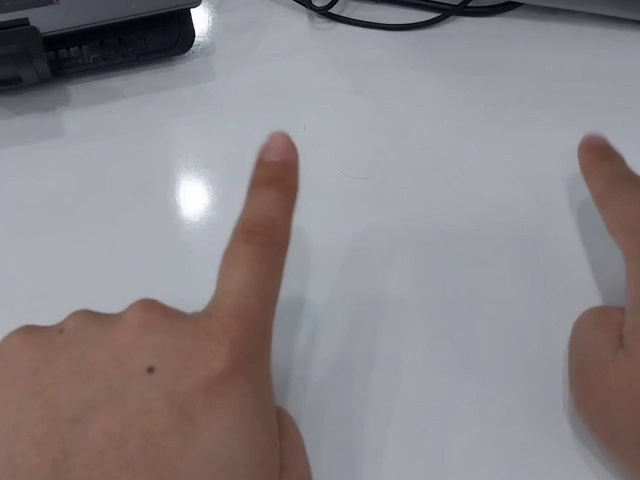fingers: (576, 132, 629, 183), (251, 130, 300, 184)
